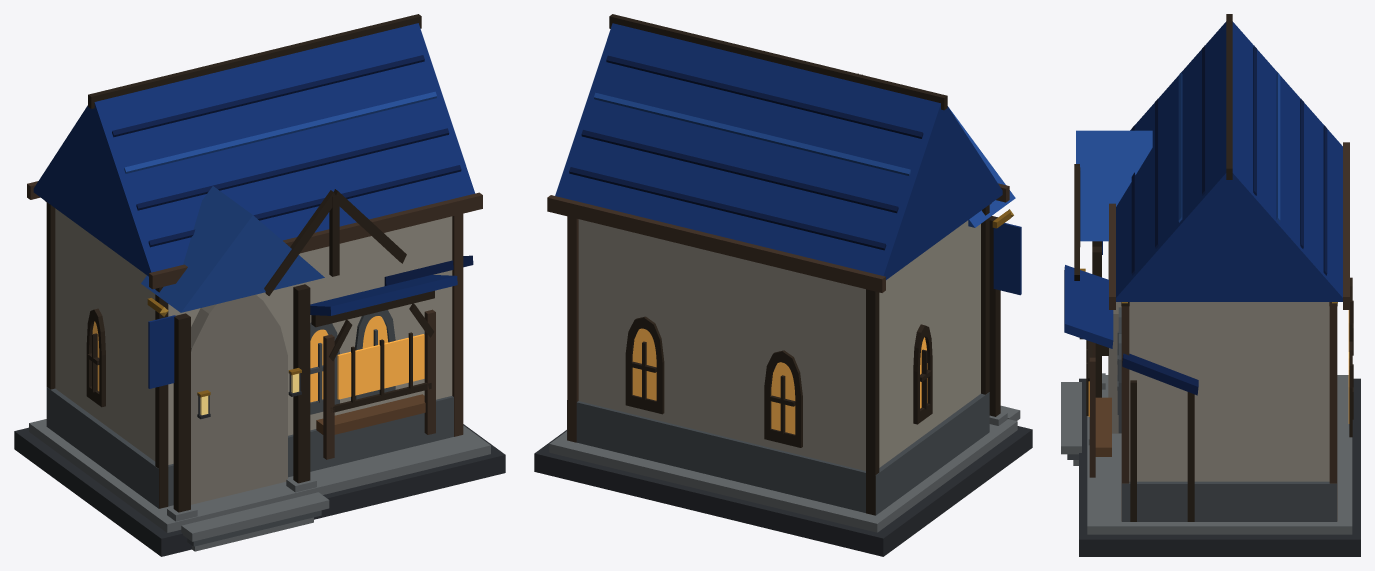
The model's file is eastbrook_bank.glb.
The picture shows the model from 3 angles, left to right: view 1: azimuth 30°, elevation 25°; view 2: azimuth 150°, elevation 25°; view 3: azimuth 270°, elevation 25°; orthographic projection. The views are drawn at different scales.
Visible parts, largest first — view 1: EastbrookBank_TownOpaque, EastbrookBank_TownEmissive; view 2: EastbrookBank_TownOpaque, EastbrookBank_TownEmissive; view 3: EastbrookBank_TownOpaque.
Part boxes in pixels (x1,y1,x2,y2): EastbrookBank_TownOpaque: (14,14,505,556); EastbrookBank_TownEmissive: (92,316,424,415); EastbrookBank_TownOpaque: (534,14,1032,556); EastbrookBank_TownEmissive: (632,328,927,434); EastbrookBank_TownOpaque: (1061,14,1360,556).
Bounding box in the file's own units: 7 × 7.8 × 5.5.
